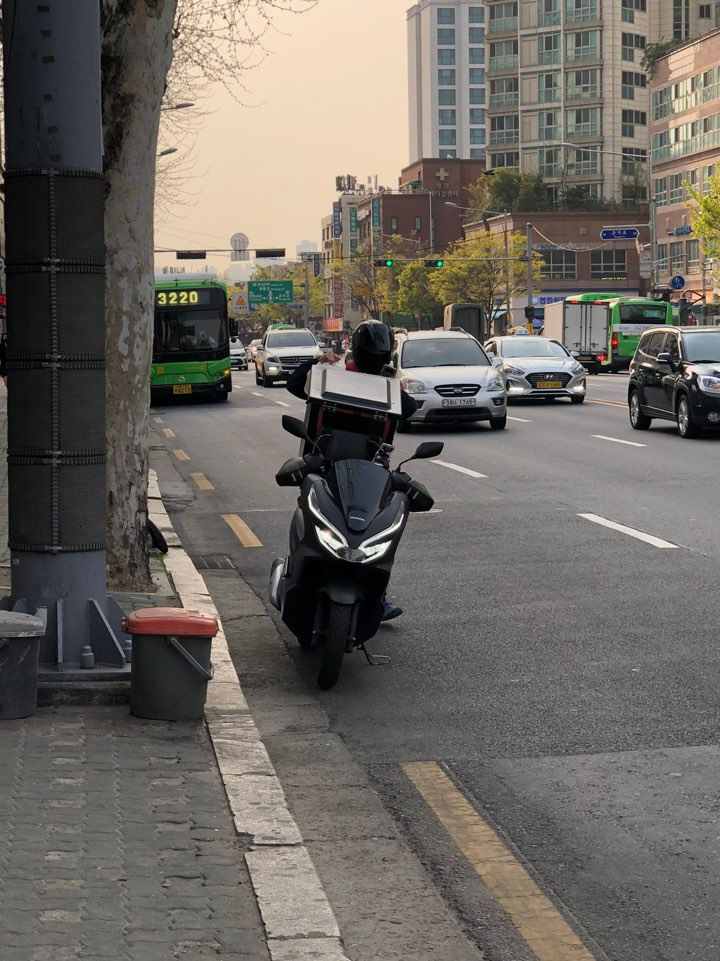bnum: (151, 290, 200, 306)
